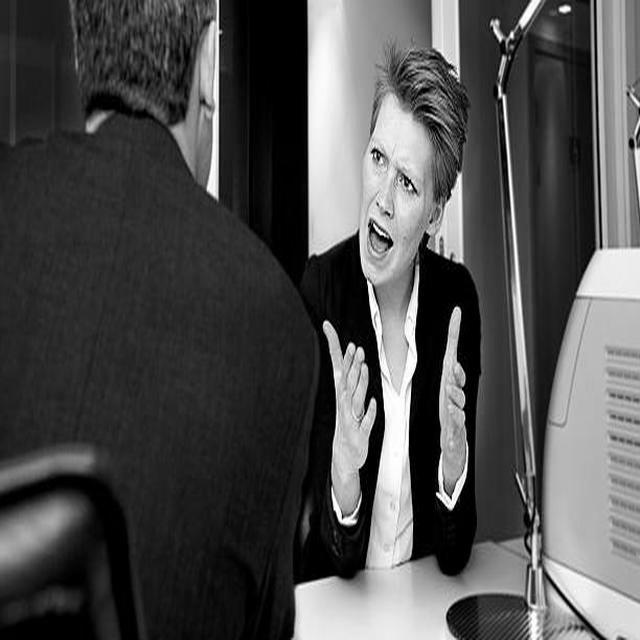Angry: (359, 95, 435, 285)
